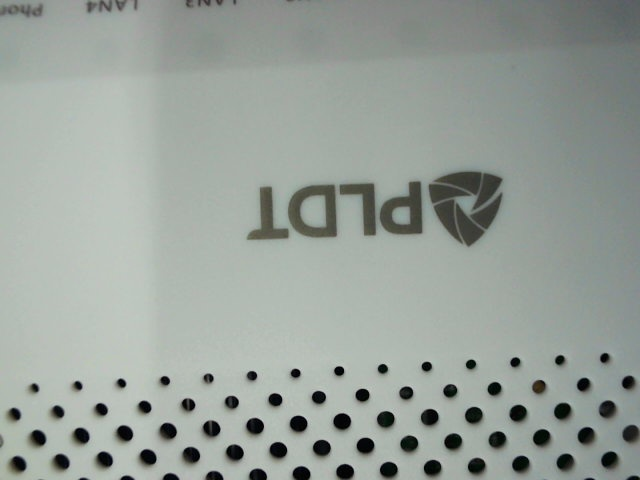BH_PLDT: (229, 161, 544, 267)
